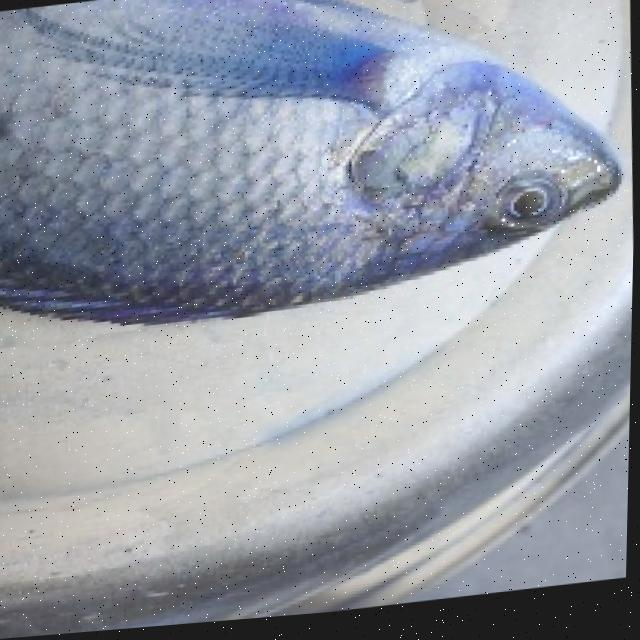Fresh: (0, 14, 638, 328)
